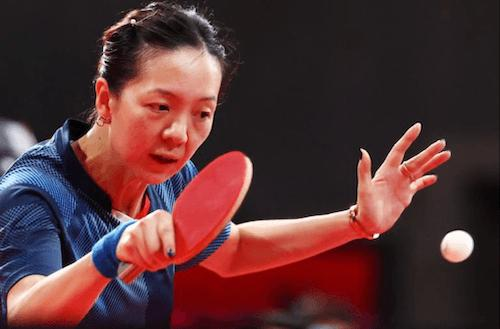ball_pingpong: (439, 228, 475, 264)
